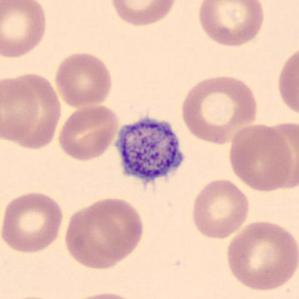Lymphocyte: (109, 110, 190, 194)
RBC: (60, 195, 147, 270), (178, 71, 261, 146), (223, 218, 298, 292), (225, 121, 296, 192), (0, 188, 65, 255), (188, 176, 252, 241), (56, 102, 120, 162), (14, 70, 61, 151), (52, 49, 115, 109), (195, 0, 268, 49), (0, 0, 50, 60), (0, 75, 42, 143), (107, 0, 180, 28), (274, 41, 299, 121), (66, 289, 144, 299), (2, 293, 70, 299)
